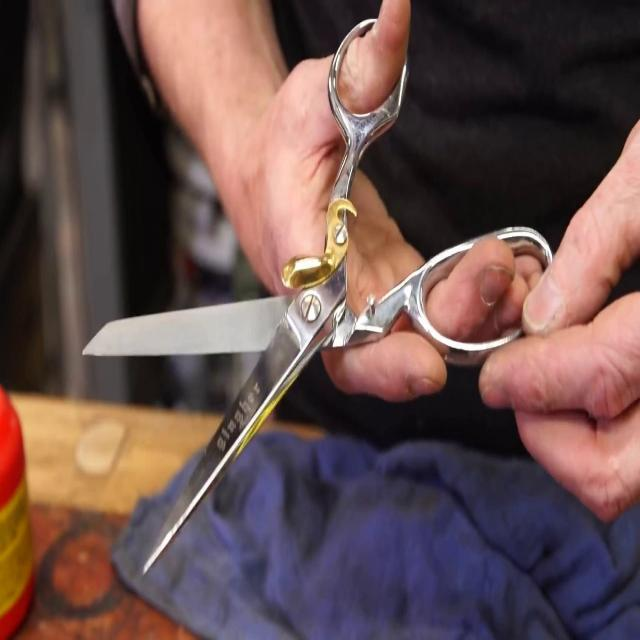scissor: (83, 18, 555, 576)
